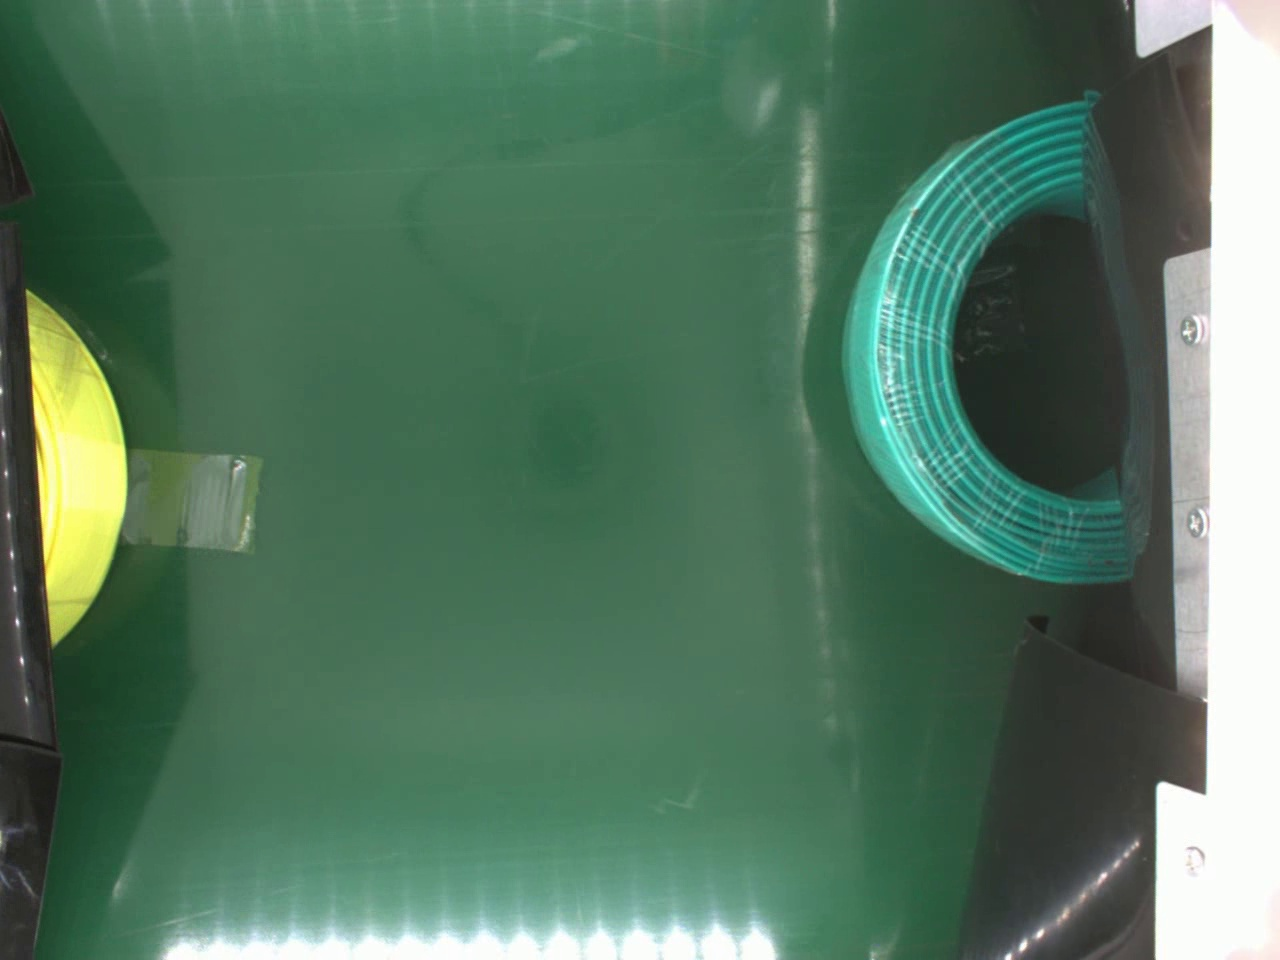green: (837, 91, 1132, 590)
